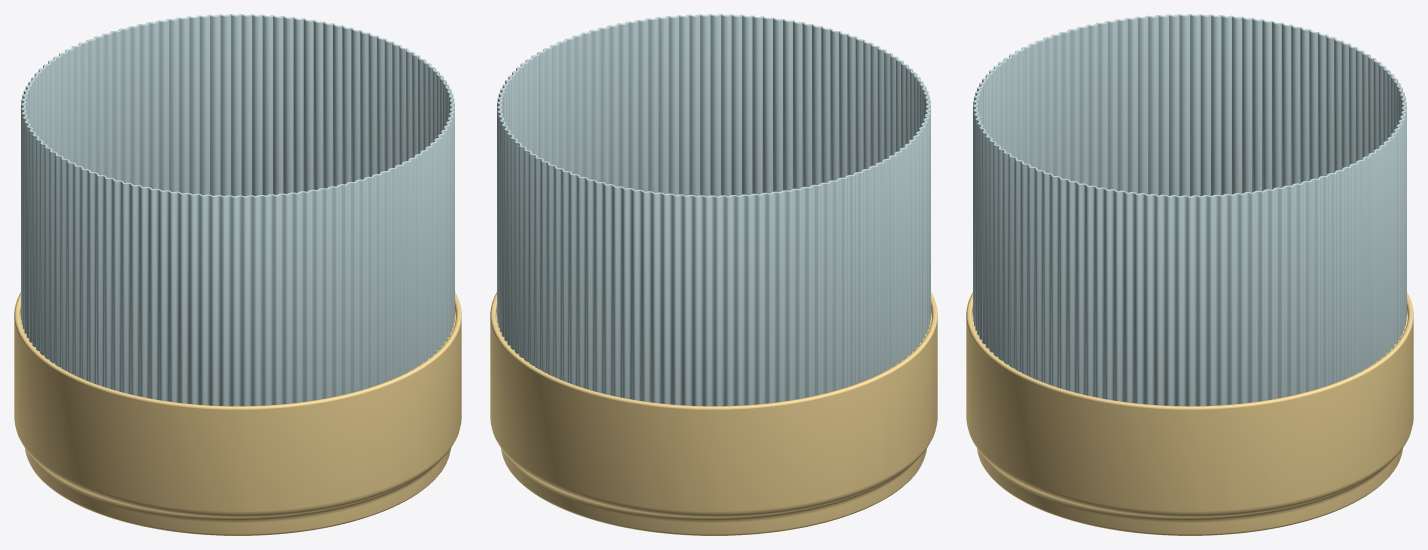
The model's file is snorptrad_ozdoba_stoowa_led_80621939.glb.
The picture shows the model from 3 angles, left to right: view 1: azimuth 30°, elevation 25°; view 2: azimuth 150°, elevation 25°; view 3: azimuth 270°, elevation 25°; orthographic projection.
Parts seen in each view (by area): view 1: snorptrad_ozdoba_stoowa_led_80621939; view 2: snorptrad_ozdoba_stoowa_led_80621939; view 3: snorptrad_ozdoba_stoowa_led_80621939.
Part boxes in pixels (bbox=[...]): snorptrad_ozdoba_stoowa_led_80621939: bbox=[14, 14, 461, 535]; snorptrad_ozdoba_stoowa_led_80621939: bbox=[490, 14, 937, 535]; snorptrad_ozdoba_stoowa_led_80621939: bbox=[966, 14, 1413, 535].
Bounding box in the file's own units: 0.095 × 0.08 × 0.095.
